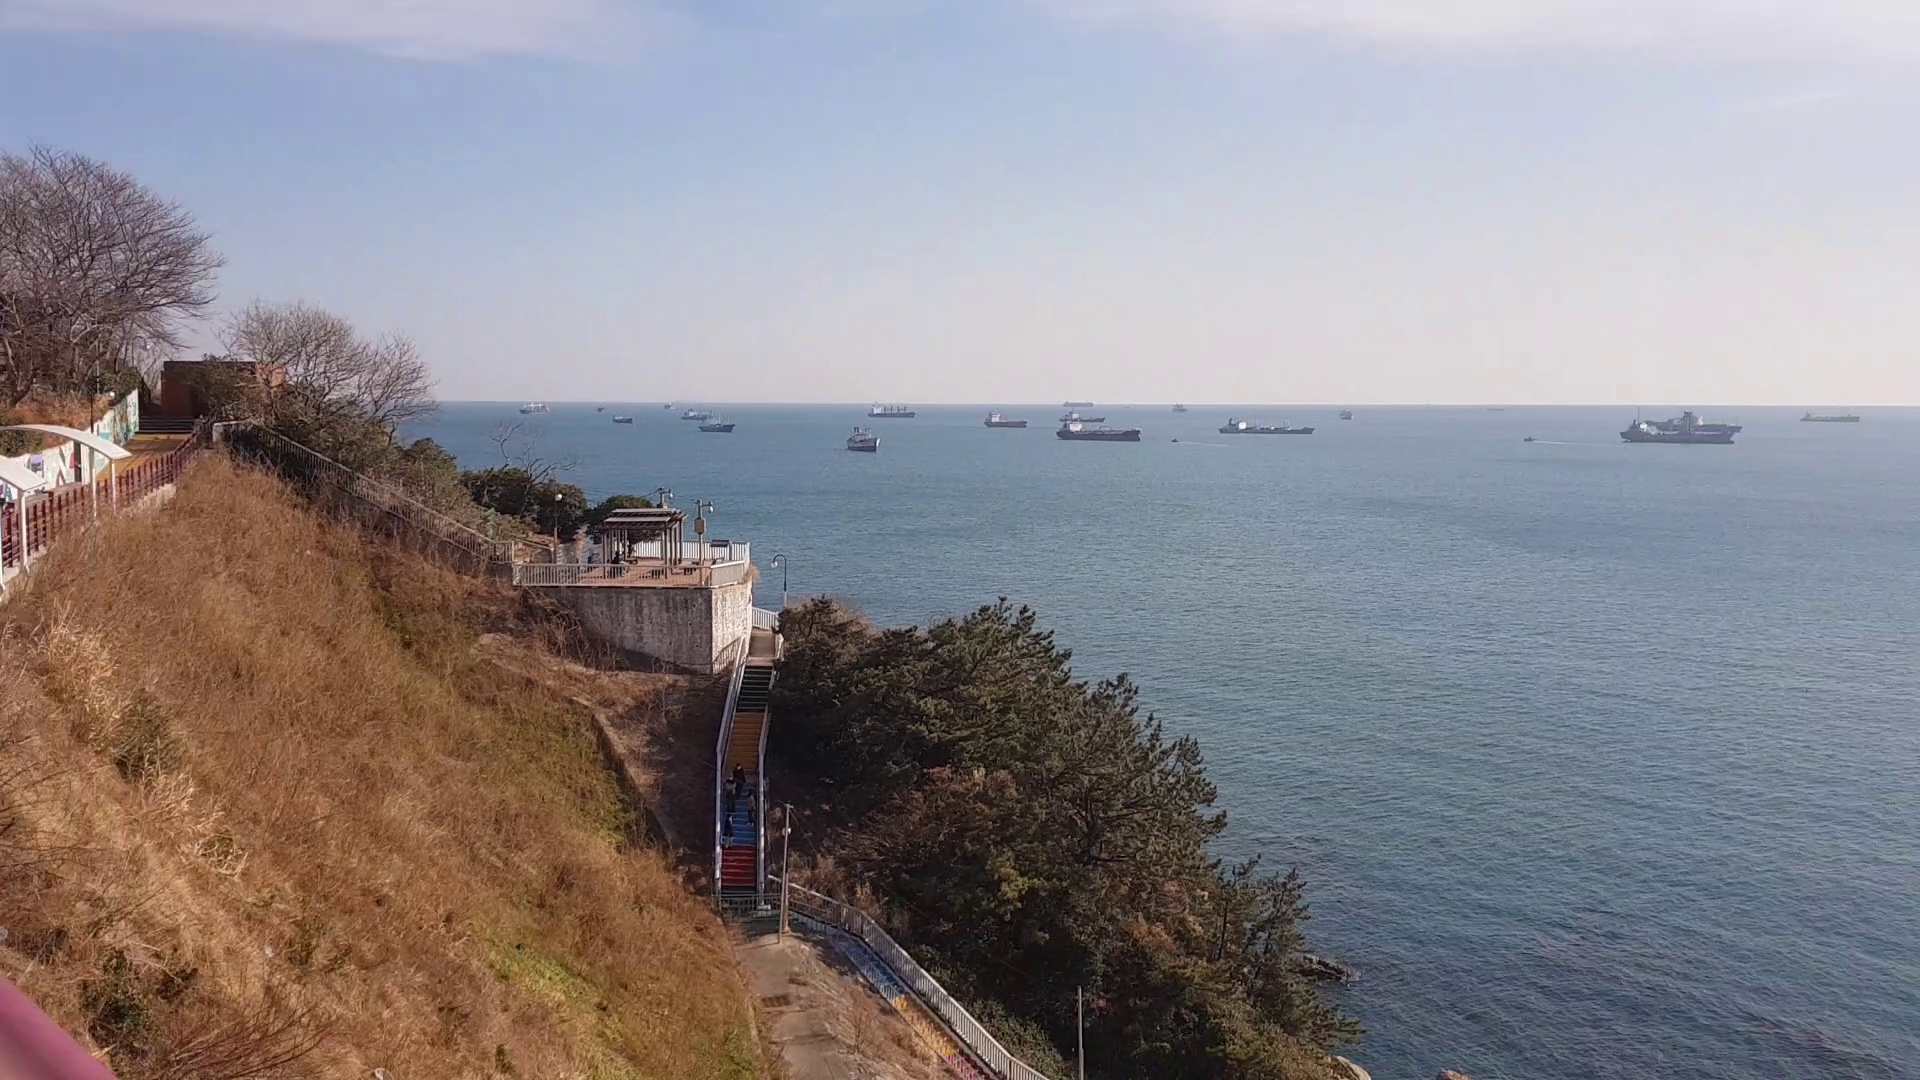Bulk_Carrier: (1611, 418, 1745, 444), (1046, 419, 1142, 438), (843, 430, 877, 450)
